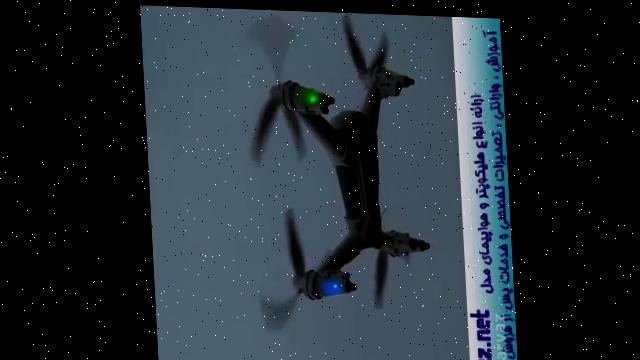drone: (228, 7, 437, 344)
